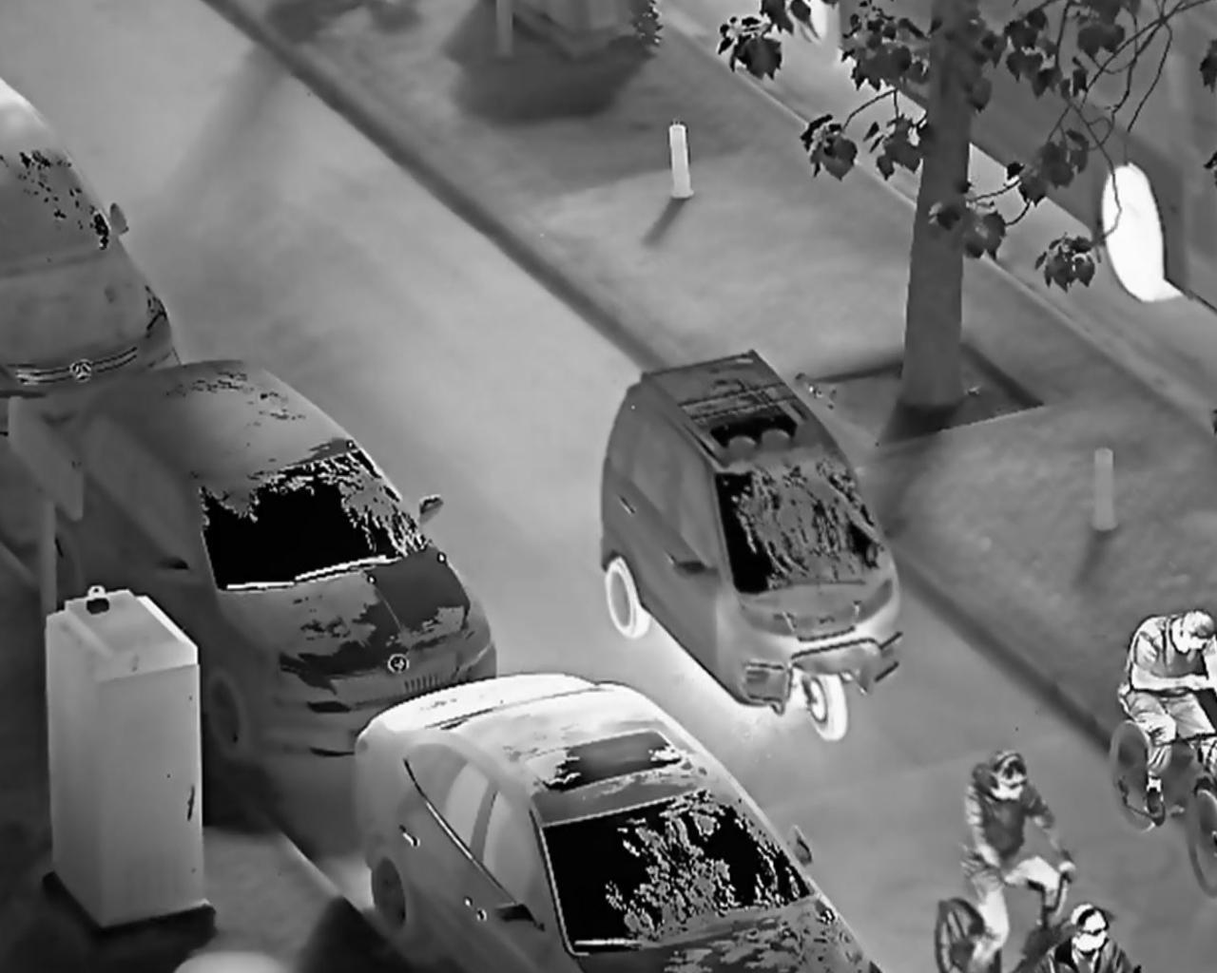person: (956, 748, 1082, 973), (1113, 604, 1217, 830)
